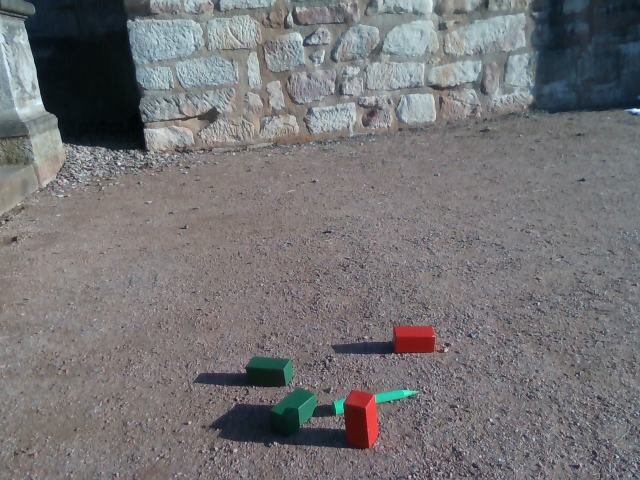Probe: (329, 386, 422, 412)
